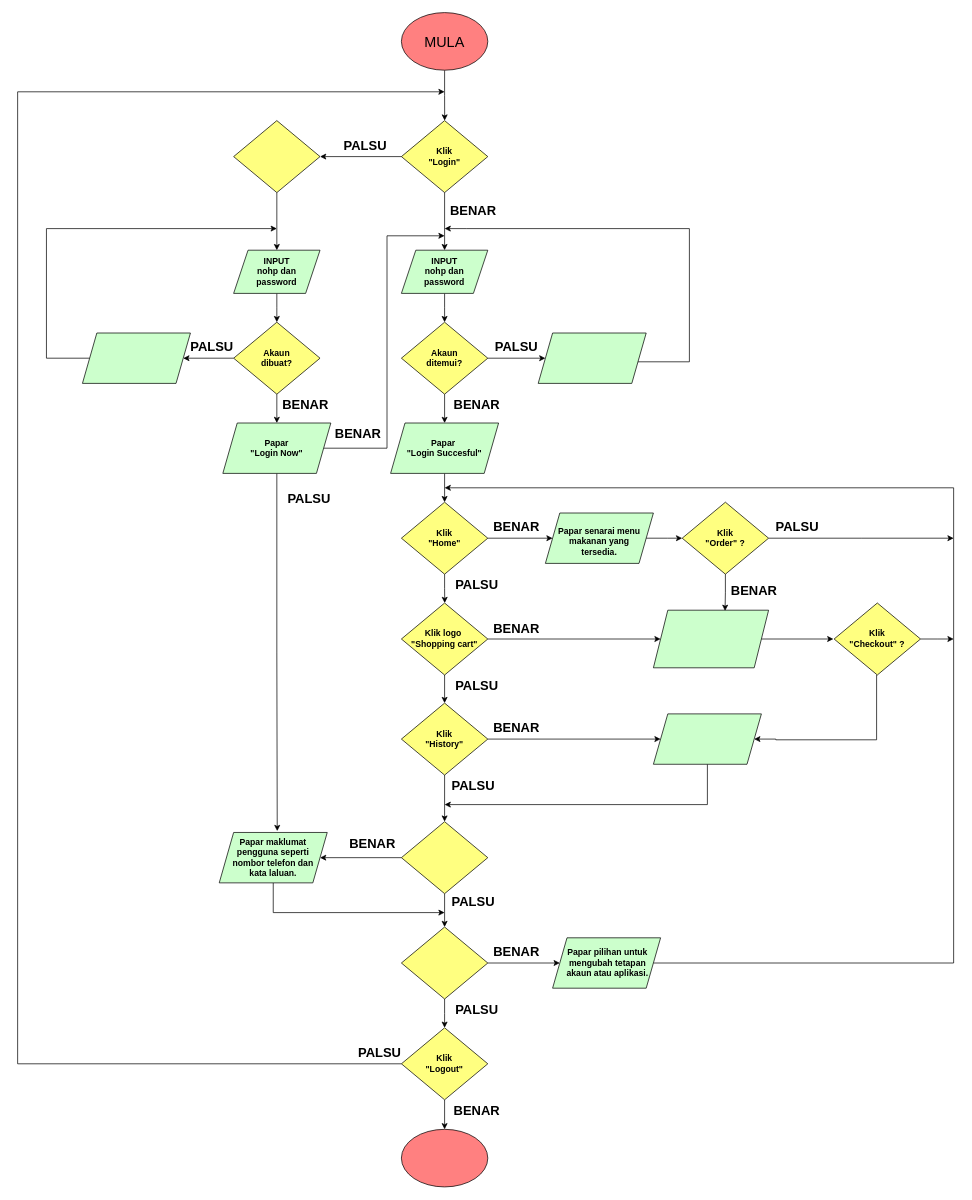
Image size: 972x1200. Some labels were removed from this diagram. Here are the shapes that lost their labels. From the top down, the centre of each, then its label:
point 276,156: Klik "Signup"
point 136,357: Papar "Signup Failed"
point 591,357: Papar "Login Failed"
point 711,638: Papar barang-barang termasuk nama, kuantiti, harga, dan jumlah keseluruhan kos.
point 707,738: Papar semua transaksi yang telah dilakukan oleh pengguna.
point 444,857: Klik "Profile"
point 444,962: Klik "Settings"
point 444,1158: TAMAT
